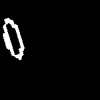chain: (3, 18, 23, 59)
